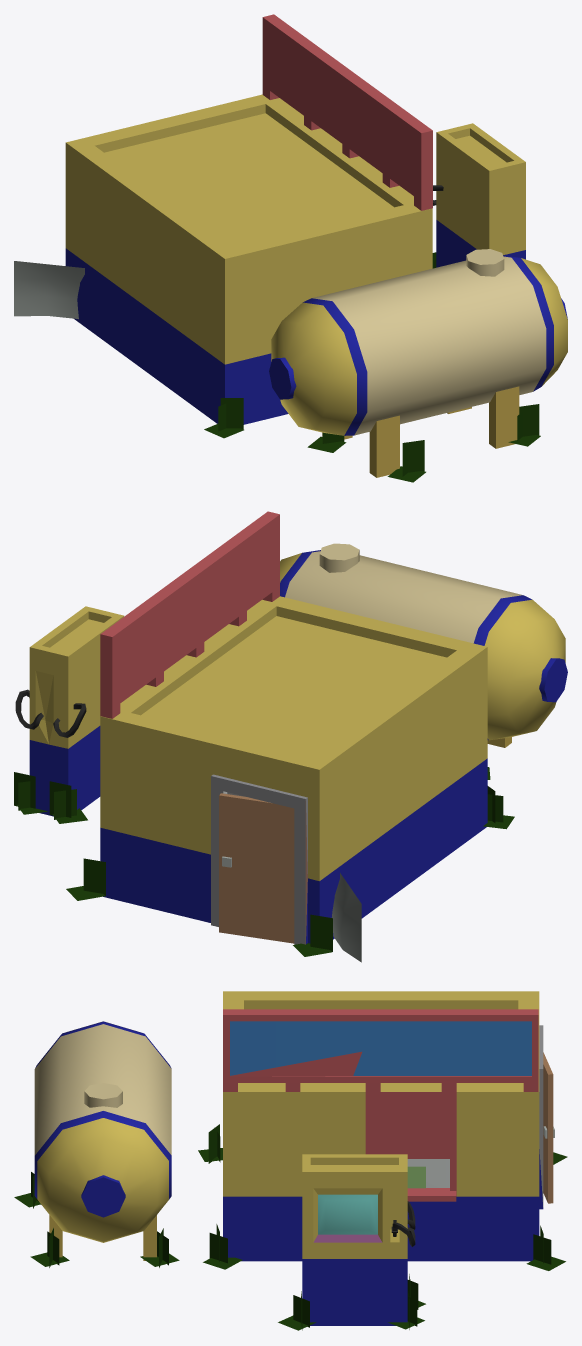
Rendered from Target_GasStation.fbx.
3 renders of one model, top to bottom at view 1: azimuth 30°, elevation 25°; view 2: azimuth 150°, elevation 25°; view 3: azimuth 270°, elevation 25°, orthographic. The views are drawn at different scales.
Visible parts, largest first — view 1: Target_GasStation; view 2: Target_GasStation; view 3: Target_GasStation.
Part boxes in pixels (left/top/right/bottom): Target_GasStation: left=14, top=14, right=567, bottom=482; Target_GasStation: left=14, top=511, right=567, bottom=962; Target_GasStation: left=14, top=991, right=567, bottom=1330.
Bounding box in the file's own units: 546 × 321 × 653.
